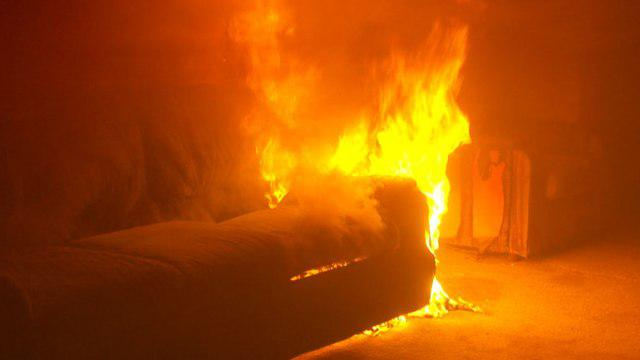fire: (251, 22, 479, 306)
